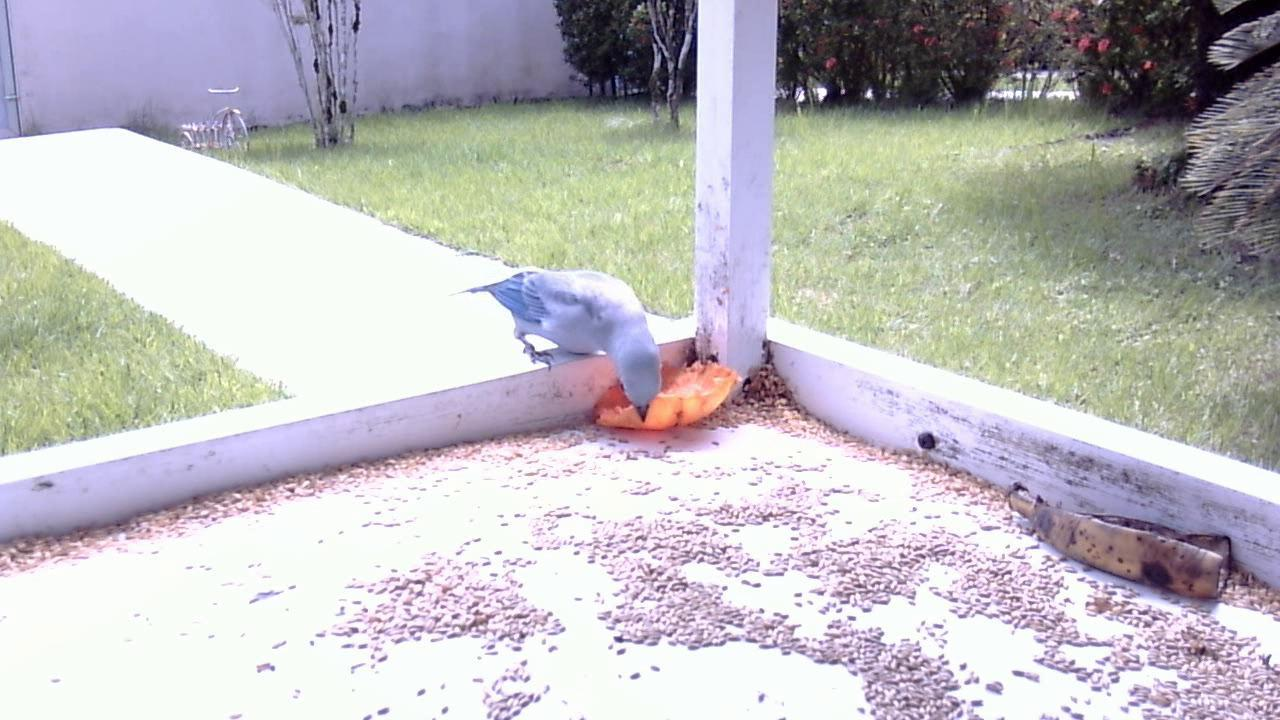sanhaco_da_amazonia: (452, 263, 666, 420)
